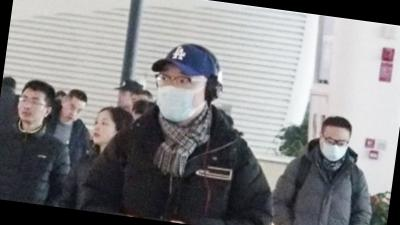with_mask: (151, 65, 208, 126), (321, 134, 351, 164)
without_mask: (15, 93, 46, 124), (91, 114, 119, 146), (59, 102, 85, 128)
